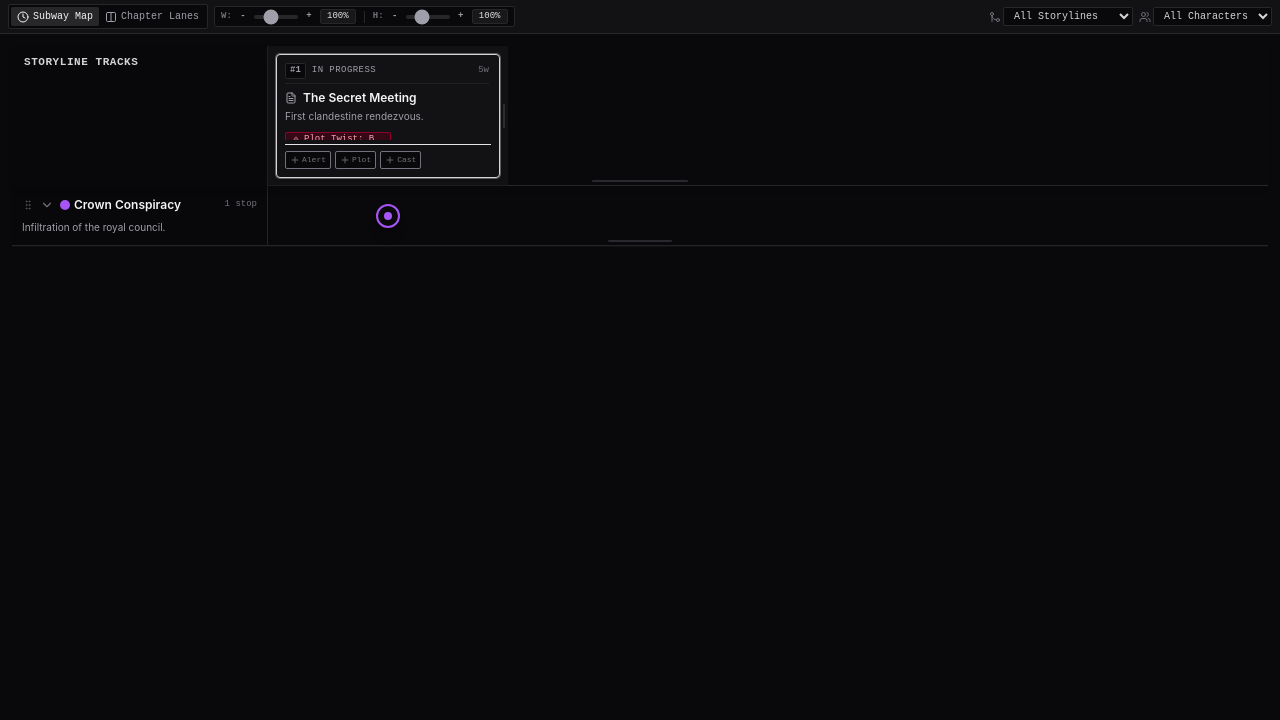
Scenario: TimelineView › renders key event marker badges and opens the interactive popover on click
expect the text "Plot Twist: Betrayal" is shown: met, box [304, 134, 412, 140]
Click marker badge opens the popover
Click the button "Plot Twist: Betrayal": [338, 140] box [285, 132, 391, 147]
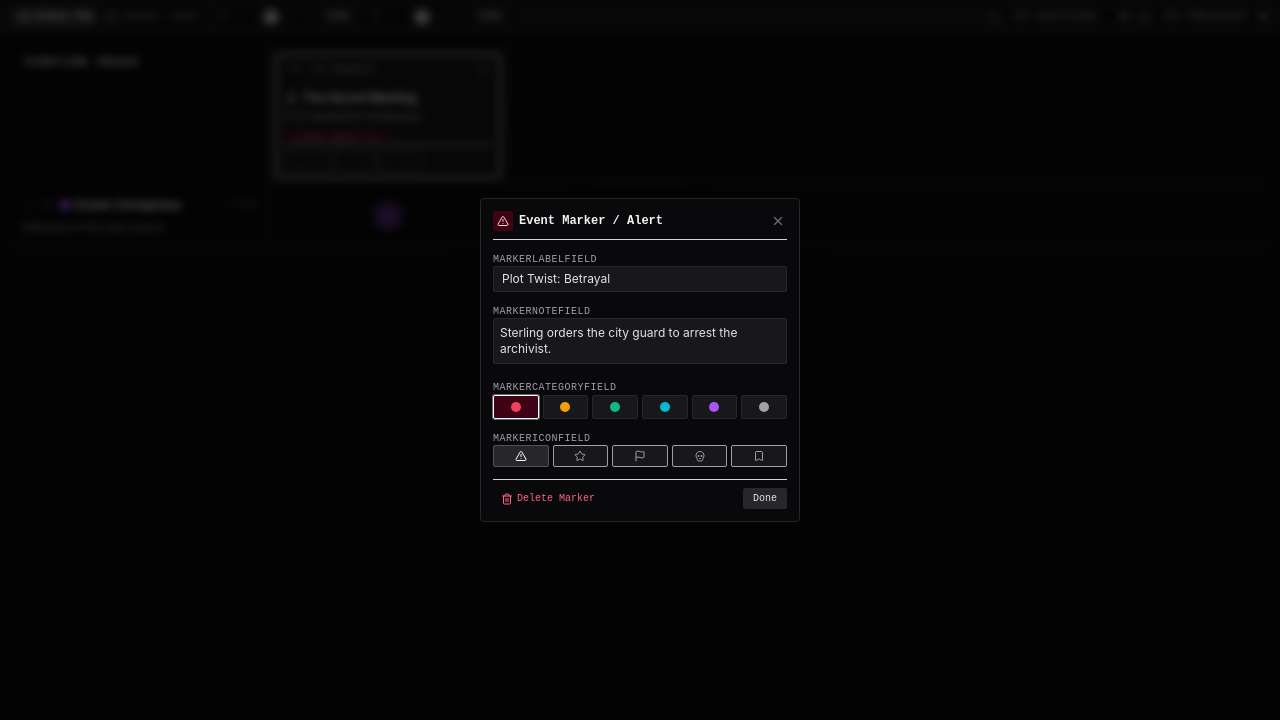
expect the text "Event Marker / Alert" is shown: met, box [519, 213, 663, 229]
expect the field showing "Plot Twist: Betrayal" is shown: met, box [493, 266, 787, 292]
expect the text box showing "Sterling orders the city guard to arrest the archivist." is shown: met, box [493, 318, 787, 364]
